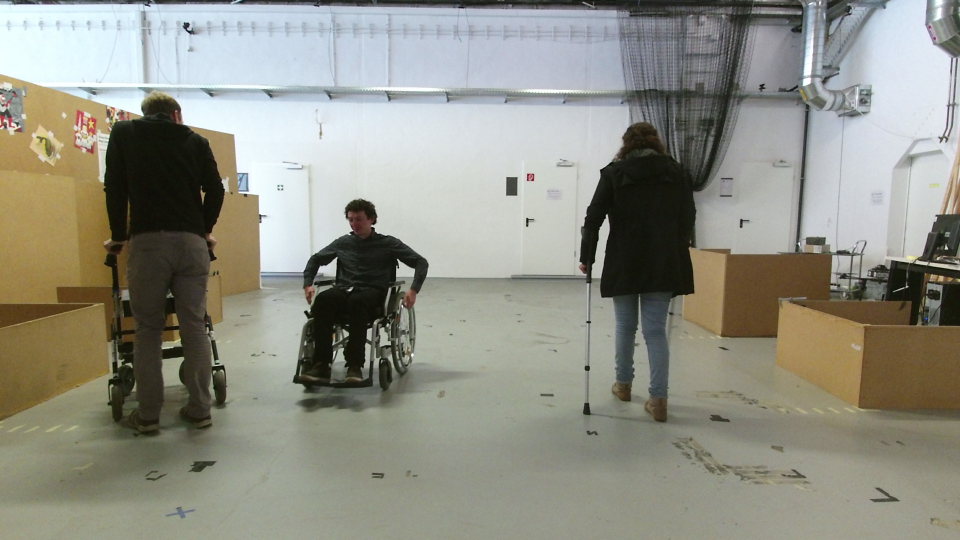crutches: (576, 114, 702, 426)
wheelchair: (287, 196, 430, 393)
